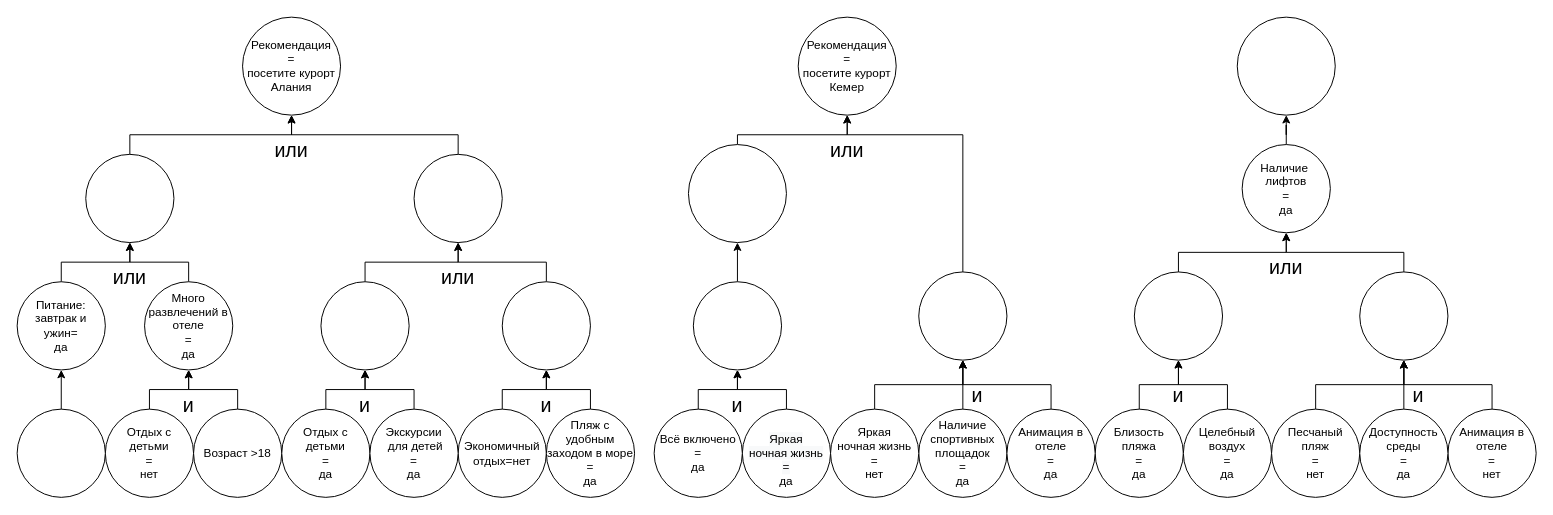
Some shapes in this 1553 by 515 pixel diagram are drawn without their labels. The shapes that lost their labels are listed below. From the top down, each one's centre as x and y in pixels, then its label:
(1285,65): Рекомендация = посетите курорт Сиде
(129,198): Недалеко от центра=да
(457,198): Хорошая транспортная развязка = да
(736,193): Много баров = да
(364,325): Активный отдых = да
(545,325): Аквапарк = да
(737,325): Отдых в компании друзей = да
(962,315): Отельный отдых для молодёжи = да
(1178,315): Отдых для молодёжи = нет
(1403,315): Оздорови- тельный отдых = да
(60,452): Экономичный отдых=да
